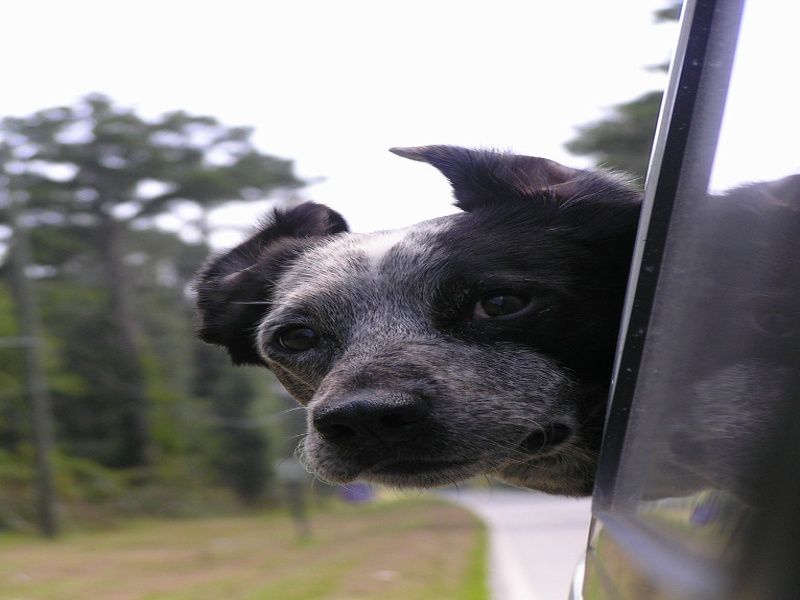dog: (188, 140, 630, 500)
